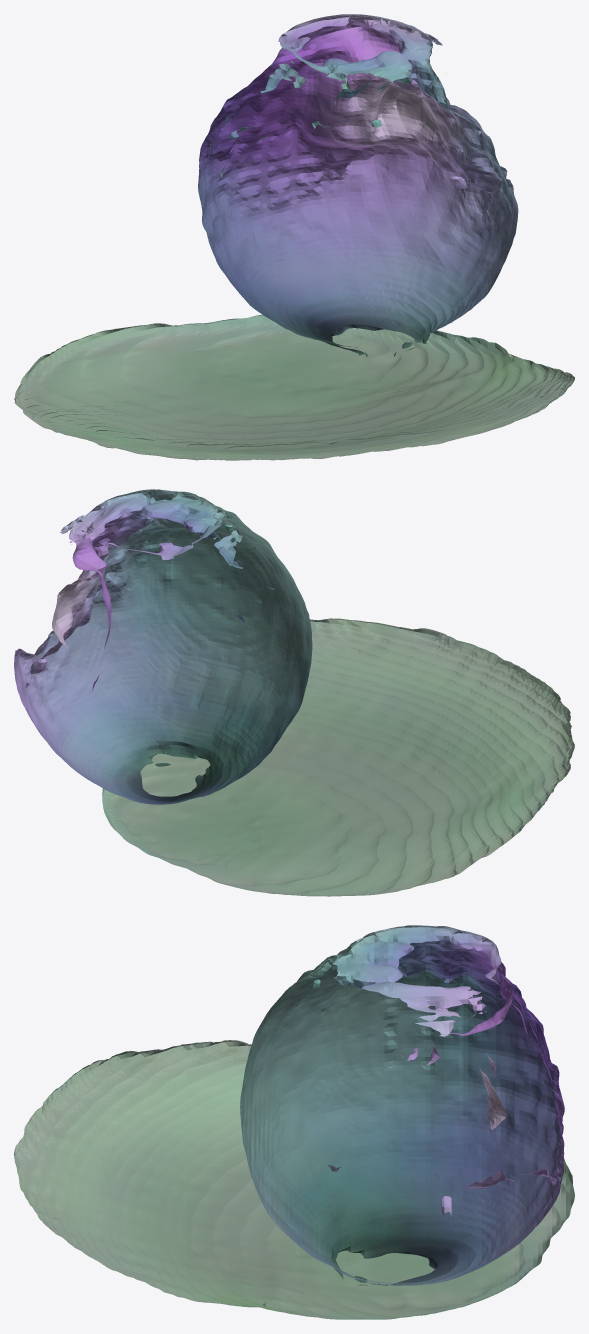
The picture shows the model from 3 angles, top to bottom: view 1: azimuth 30°, elevation 25°; view 2: azimuth 150°, elevation 25°; view 3: azimuth 270°, elevation 25°; orthographic projection. The views are drawn at different scales.
Parts seen in each view (by area): view 1: geometry_0; view 2: geometry_0; view 3: geometry_0.
Boxes of the visible parts, x1,y1,x2,y2 form: geometry_0: [14, 14, 574, 460]; geometry_0: [14, 489, 574, 896]; geometry_0: [14, 925, 574, 1319].
Size of the model in its own units: 1.6 by 1.05 by 1.49.
